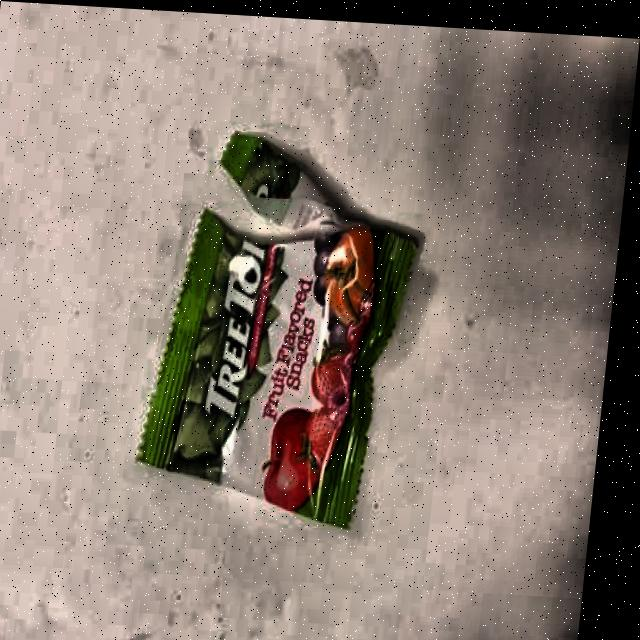trash: (127, 113, 436, 544)
